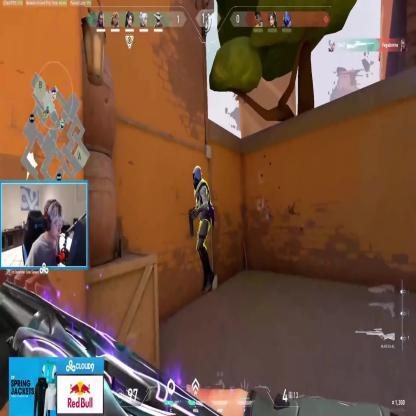enemy: (188, 165, 214, 292)
enemy_head: (192, 164, 202, 188)
